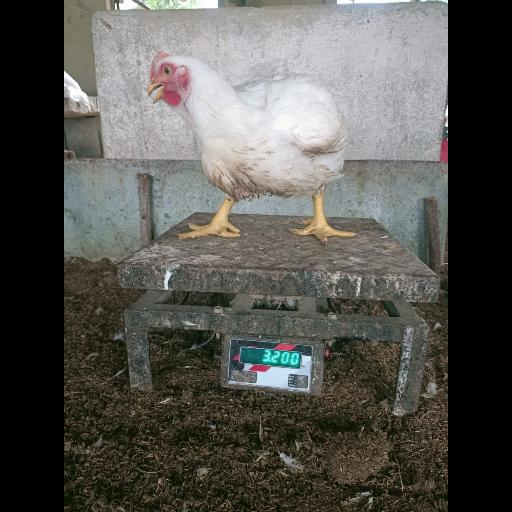chick: (147, 51, 355, 246)
